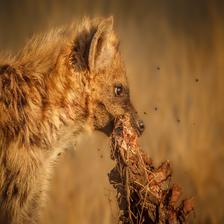hyena: (0, 11, 146, 224)
